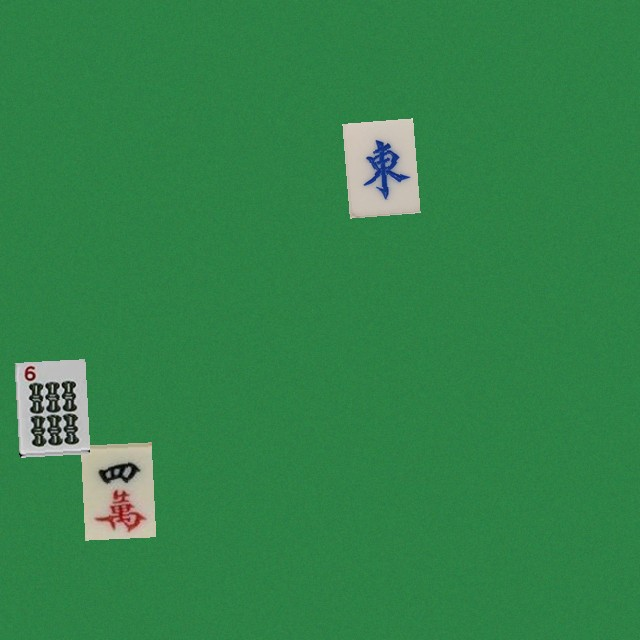tile: (80, 442, 151, 537), (342, 118, 413, 213), (14, 359, 85, 454)
